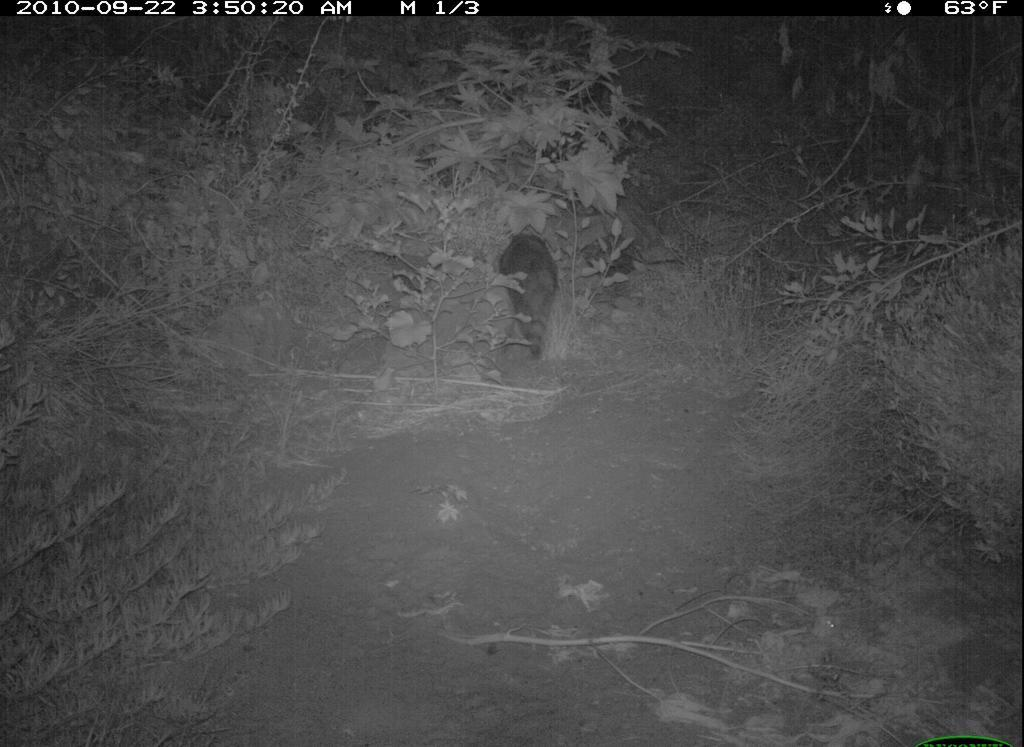raccoon: (484, 217, 569, 367)
